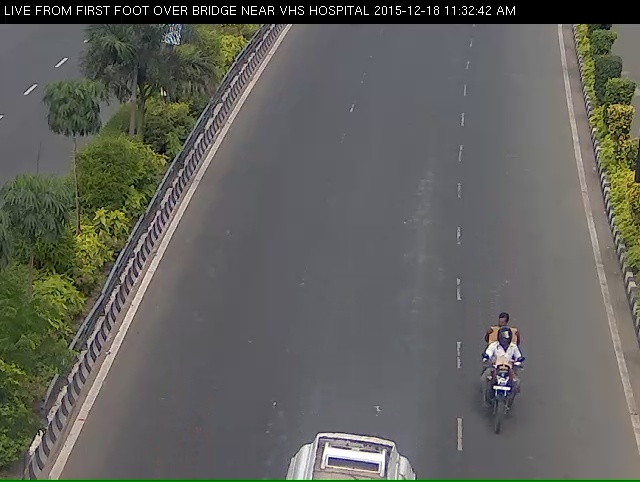Person: (456, 332, 546, 473)
